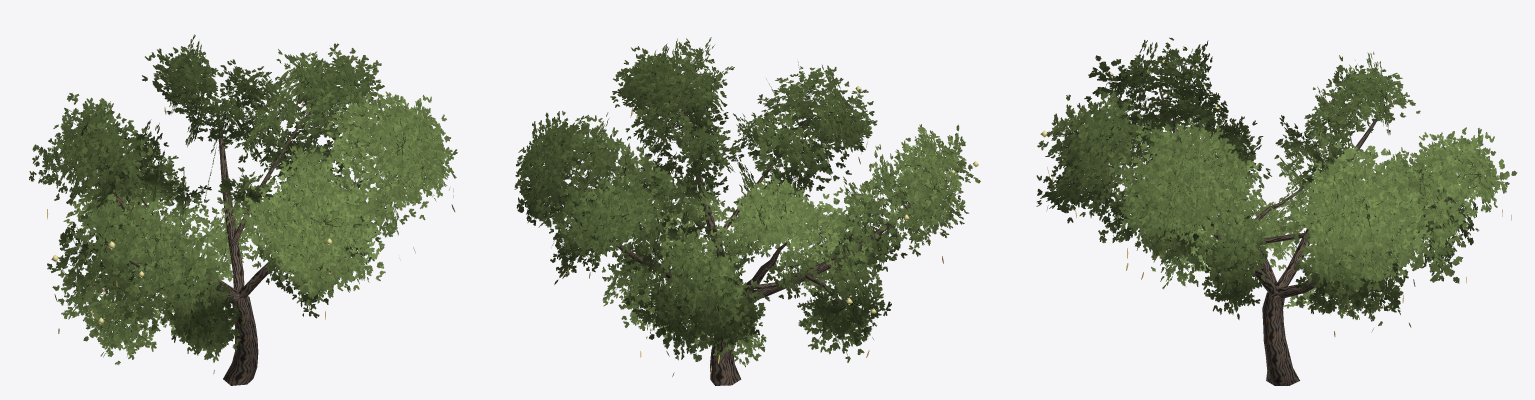
Rendered from adult-c.lod1.glb.
3 renders of one model, left to right at view 1: azimuth 30°, elevation 25°; view 2: azimuth 150°, elevation 25°; view 3: azimuth 270°, elevation 25°, orthographic. The views are drawn at different scales.
Parts seen in each view (by area): view 1: foliage, bark; view 2: foliage, bark; view 3: foliage, bark.
Part boxes in pixels (x1=…): foliage: x1=29, y1=34, x2=457, y2=365; bark: x1=76, y1=96, x2=374, y2=385; foliage: x1=514, y1=37, x2=980, y2=367; bark: x1=571, y1=103, x2=914, y2=385; foliage: x1=1036, y1=37, x2=1517, y2=325; bark: x1=1104, y1=88, x2=1452, y2=385.
Size of the model in its own units: 10.03 by 7.5 by 10.33.
4 materials, 2 textured.
